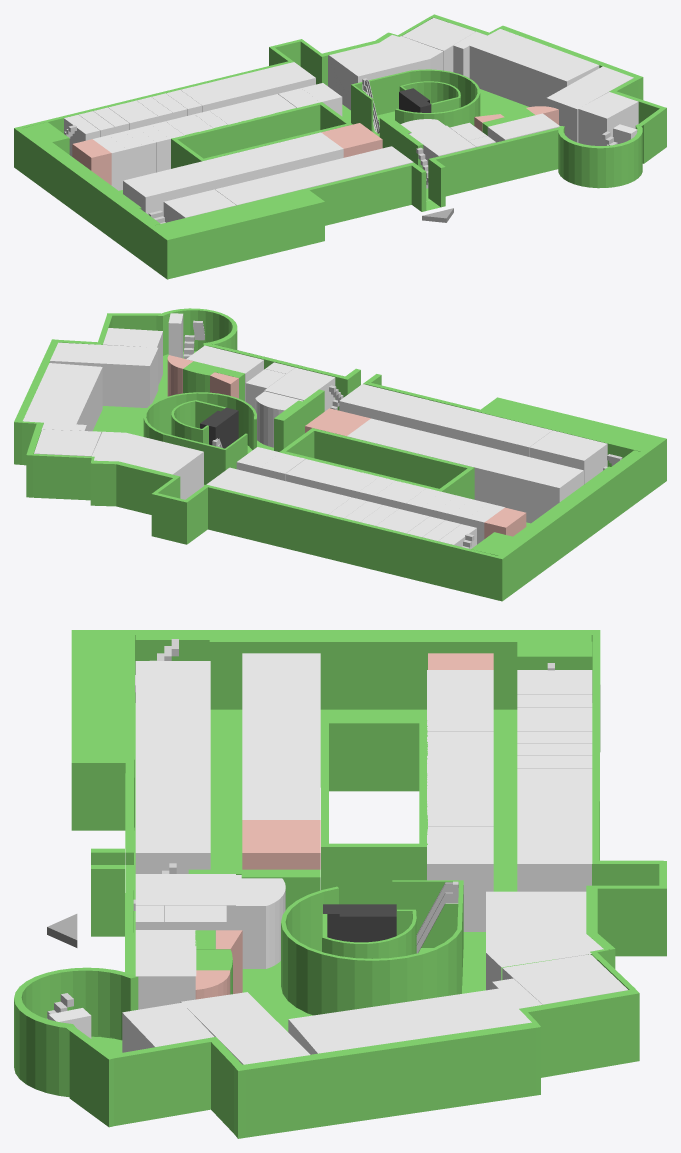
3 views of the same model, one above another, from view 1: azimuth 30°, elevation 25°; view 2: azimuth 150°, elevation 25°; view 3: azimuth 270°, elevation 25° (orthographic). The views are drawn at different scales.
Parts seen in each view (by area): view 1: object, 学部長室, 企画課, 理事長室, 理事室, 961, 962, 学務課, 964, 学長室, 967, 963 (+30 smaller); view 2: object, 理事長室, 学部長室, 企画課, 961, 学務課, 962, 967, 965, 968, 966, 学長室 (+28 smaller); view 3: object, 学部長室, 企画課, 学務課, 968, 理事長室, 役員会議室, 研究室受付_, 967, 学長室, 962, 印刷室 (+41 smaller).
Boxes of the visible parts, left/top/right/bottom form: object: left=14, top=14, right=666, bottom=279; 学部長室: left=469, top=29, right=599, bottom=106; 企画課: left=328, top=35, right=443, bottom=110; 理事長室: left=546, top=66, right=633, bottom=142; 理事室: left=578, top=92, right=638, bottom=145; 961: left=123, top=170, right=189, bottom=216; 962: left=167, top=156, right=245, bottom=195; 学務課: left=400, top=119, right=475, bottom=179; 964: left=270, top=132, right=343, bottom=170; 学長室: left=402, top=17, right=475, bottom=71; 967: left=270, top=159, right=358, bottom=191; 963: left=223, top=145, right=292, bottom=181; object: left=14, top=308, right=666, bottom=601; 理事長室: left=50, top=342, right=158, bottom=407; 学部長室: left=23, top=363, right=102, bottom=431; 企画課: left=92, top=431, right=203, bottom=499; 961: left=512, top=459, right=583, bottom=523; 学務課: left=255, top=367, right=335, bottom=447; 962: left=452, top=444, right=535, bottom=508; 967: left=398, top=398, right=493, bottom=442; 965: left=529, top=430, right=607, bottom=484; 968: left=339, top=384, right=421, bottom=424; 966: left=471, top=416, right=552, bottom=456; 学長室: left=34, top=429, right=101, bottom=456; object: left=14, top=630, right=666, bottom=1138; 学部長室: left=288, top=988, right=531, bottom=1054; 企画課: left=486, top=891, right=603, bottom=990; 学務課: left=135, top=874, right=285, bottom=968; 968: left=135, top=806, right=210, bottom=873; 理事長室: left=180, top=992, right=310, bottom=1064; 役員会議室: left=135, top=930, right=196, bottom=1009; 研究室受付_: left=517, top=833, right=592, bottom=891; 967: left=135, top=749, right=210, bottom=806; 学長室: left=502, top=954, right=628, bottom=1004; 962: left=242, top=690, right=320, bottom=737; 印刷室: left=427, top=846, right=493, bottom=931.
Bounding box in the file's own units: 2.29 × 0.2327 × 1.43.
